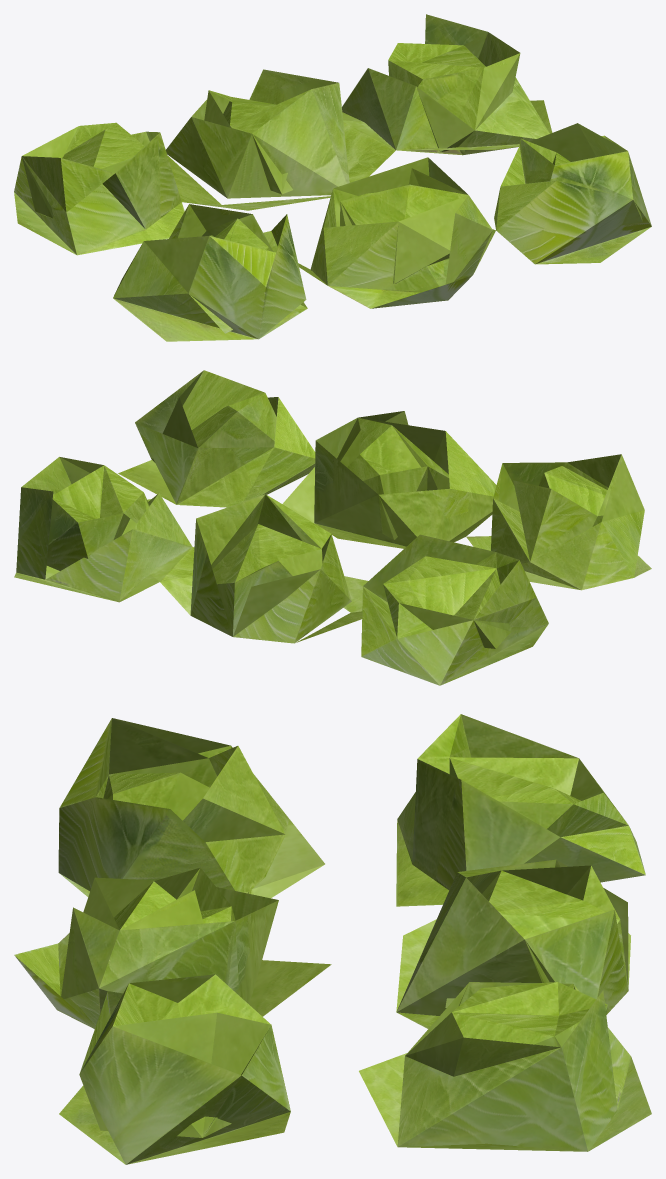
File: lettuce_row.glb
The picture shows the model from 3 angles, top to bottom: view 1: azimuth 30°, elevation 25°; view 2: azimuth 150°, elevation 25°; view 3: azimuth 270°, elevation 25°; orthographic projection. The views are drawn at different scales.
Size of the model in its own units: 1.9 by 0.3593 by 1.44.
1 material, 1 textured.
